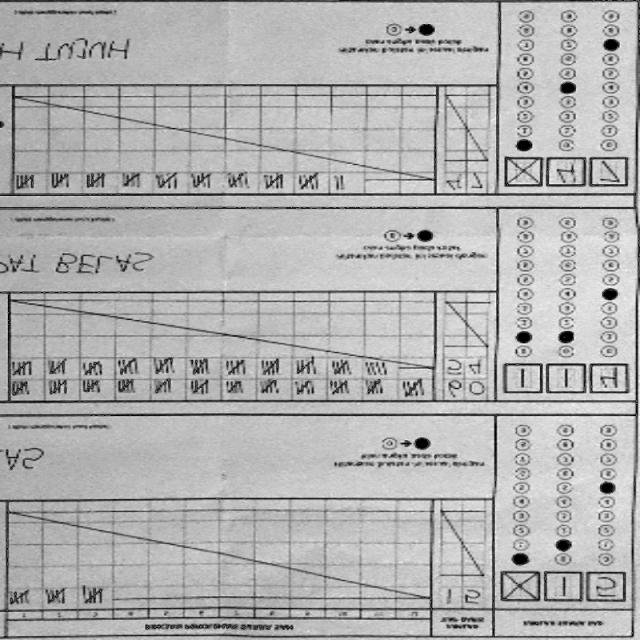Suara: (498, 568, 630, 610), (498, 363, 632, 400), (500, 155, 630, 192)
